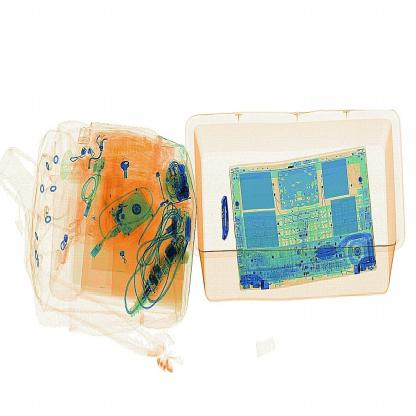knife: (215, 187, 242, 245)
